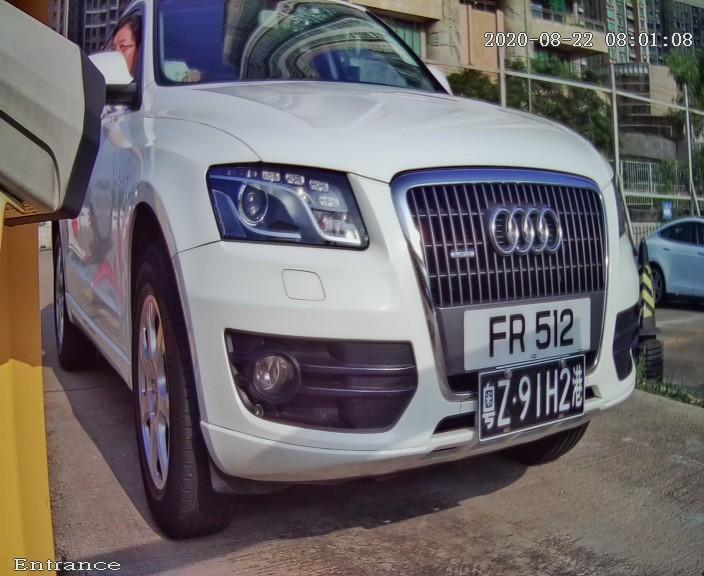License Plate: (459, 286, 607, 394)
